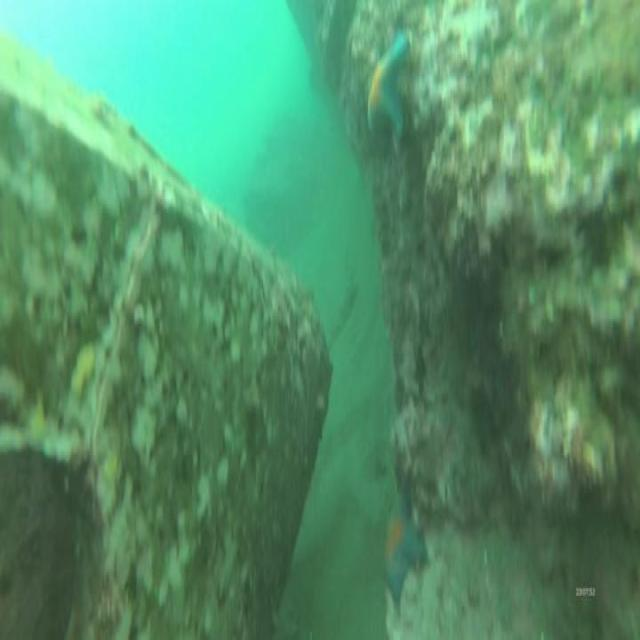starfish: (382, 466, 428, 612), (366, 35, 412, 137)
